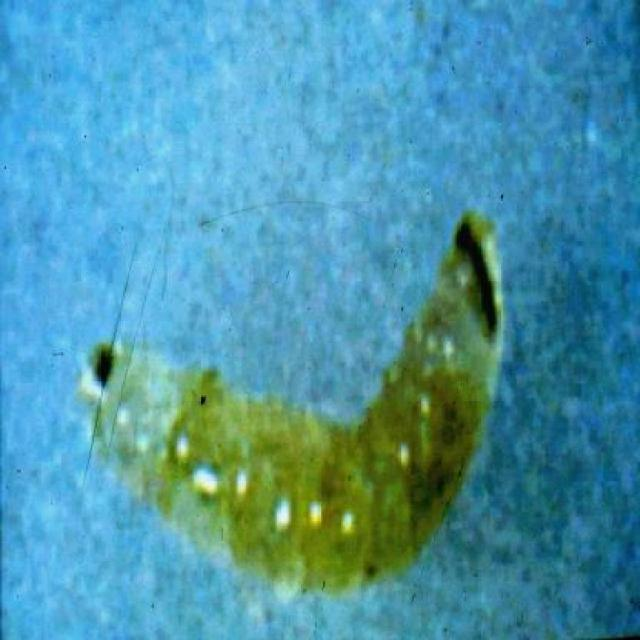whorl-maggot: (82, 199, 505, 598)
